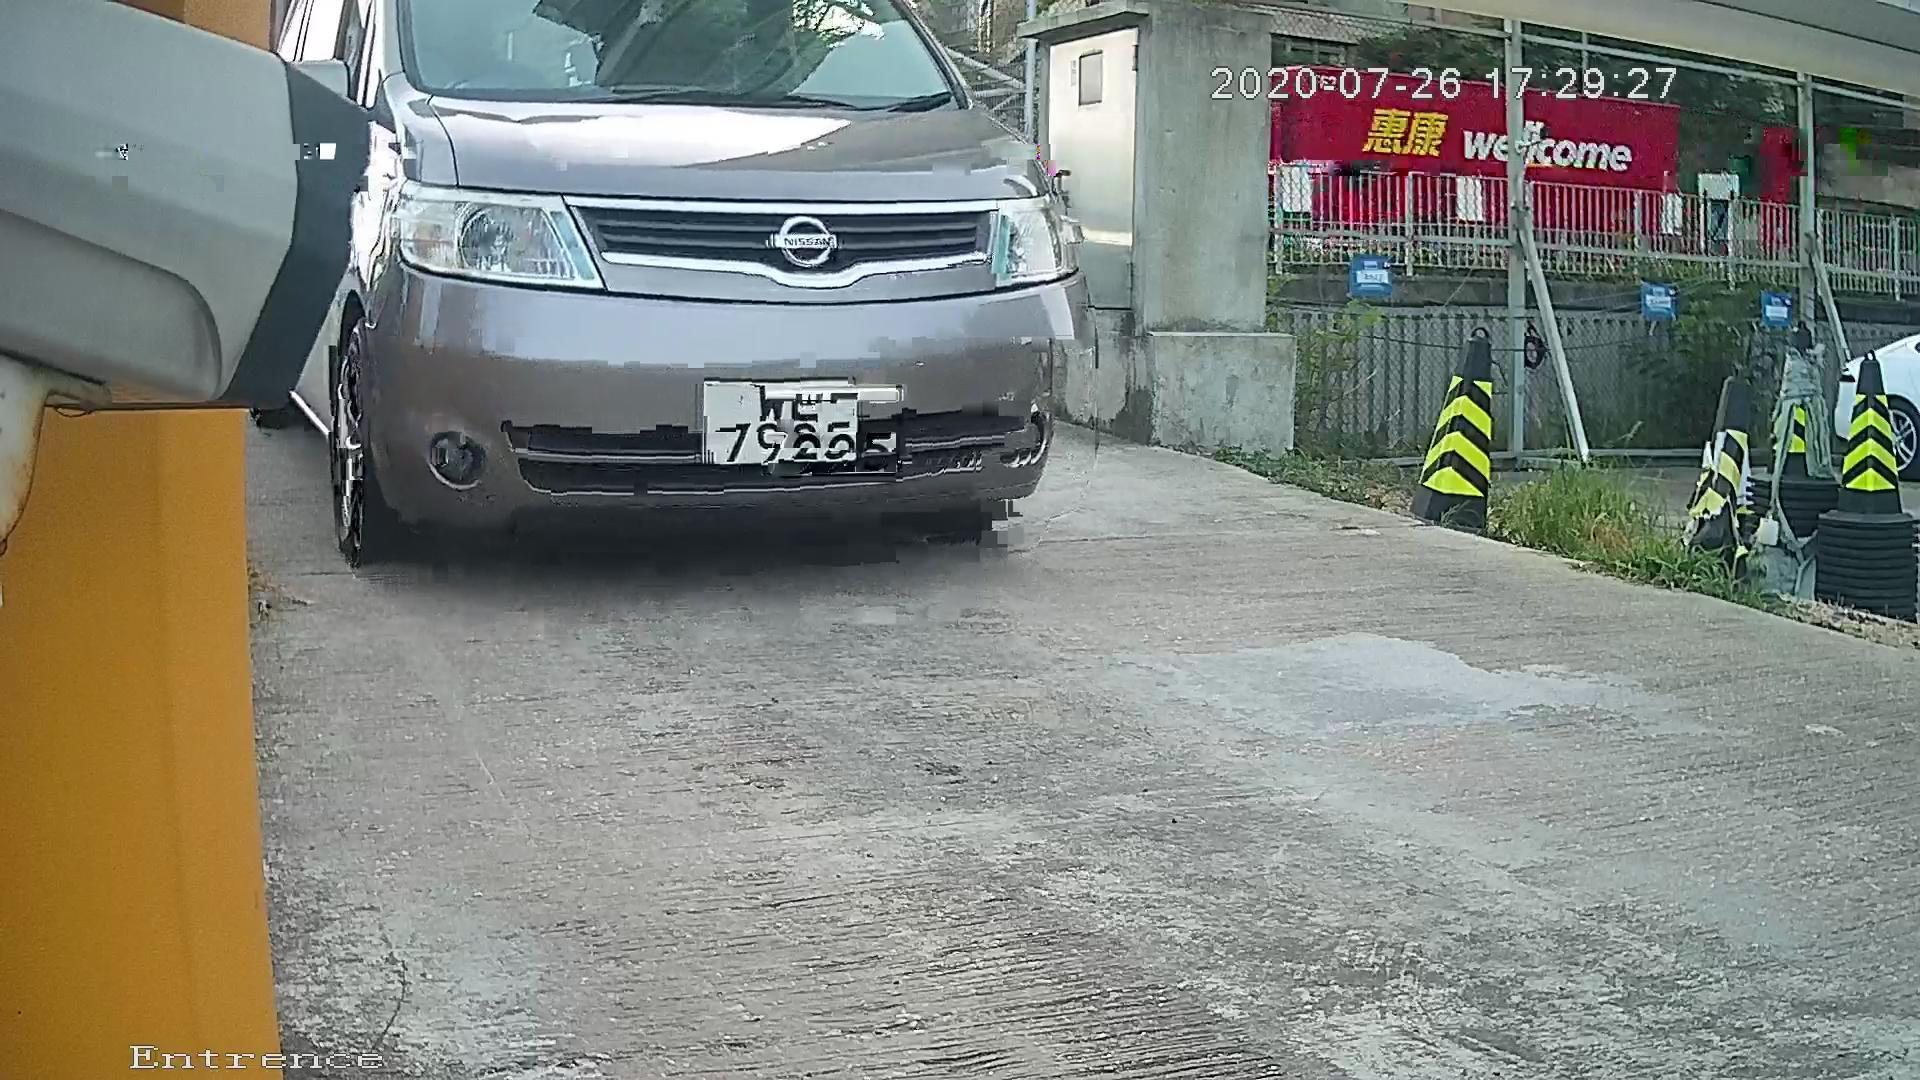privatecar: (232, 5, 1236, 579)
